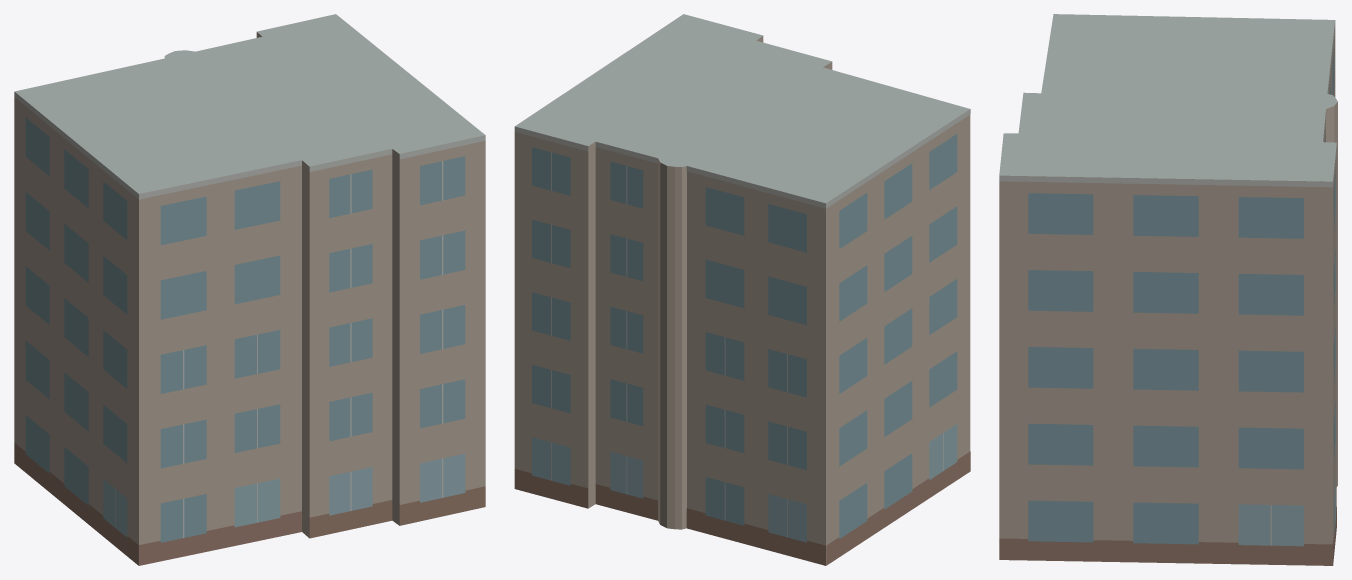
File: survey-upis-33001697.glb
3 views of the same model, side by side, from view 1: azimuth 30°, elevation 25°; view 2: azimuth 150°, elevation 25°; view 3: azimuth 270°, elevation 25° (orthographic). The views are drawn at different scales.
Visible parts, largest first — view 1: survey-upis-33001697.tmp; view 2: survey-upis-33001697.tmp; view 3: survey-upis-33001697.tmp.
Boxes of the visible parts, bbox=[...] form: survey-upis-33001697.tmp: bbox=[14, 14, 485, 565]; survey-upis-33001697.tmp: bbox=[514, 14, 970, 565]; survey-upis-33001697.tmp: bbox=[999, 14, 1337, 565].
Size of the model in its own units: 15.49 by 16.55 by 13.23.
